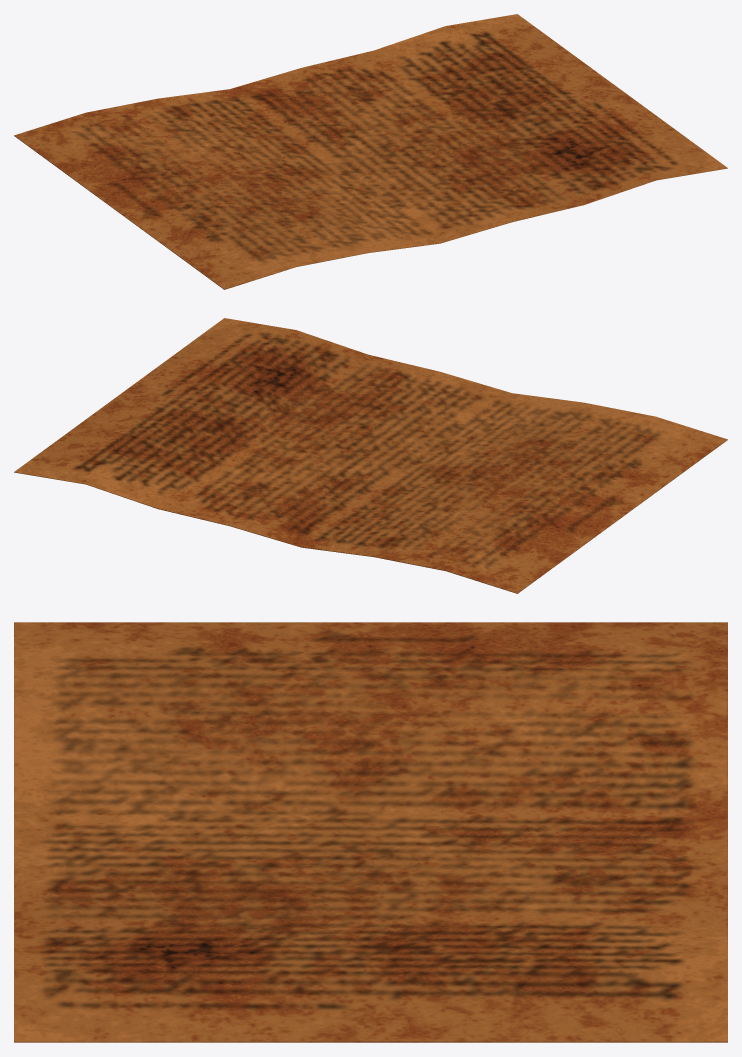
File: duong_kach_menh_r3.glb
3 views of the same model, one above another, from view 1: azimuth 30°, elevation 25°; view 2: azimuth 150°, elevation 25°; view 3: azimuth 270°, elevation 25° (orthographic). The views are drawn at different scales.
Parts seen in each view (by area): view 1: Box001; view 2: Box001; view 3: Box001.
Boxes of the visible parts, x1,y1,x2,y2 form: Box001: [14, 14, 727, 289]; Box001: [14, 318, 727, 593]; Box001: [14, 622, 727, 1042].
Bounding box in the file's own units: 110 × 2.52 × 79.26.
1 material, 1 textured.
